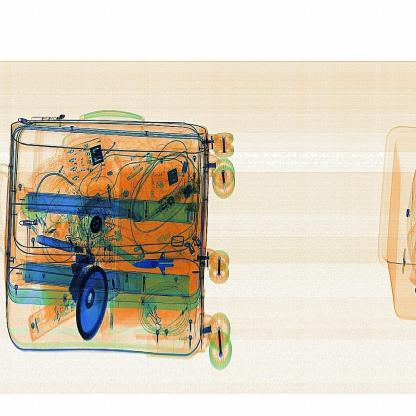gun: (132, 244, 193, 287)
